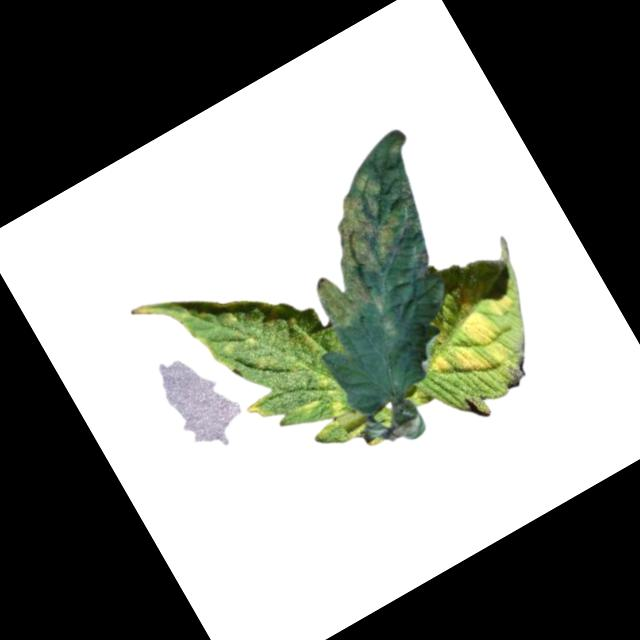Leaf_Mold: (130, 234, 381, 518), (264, 127, 475, 335), (399, 257, 547, 395)
